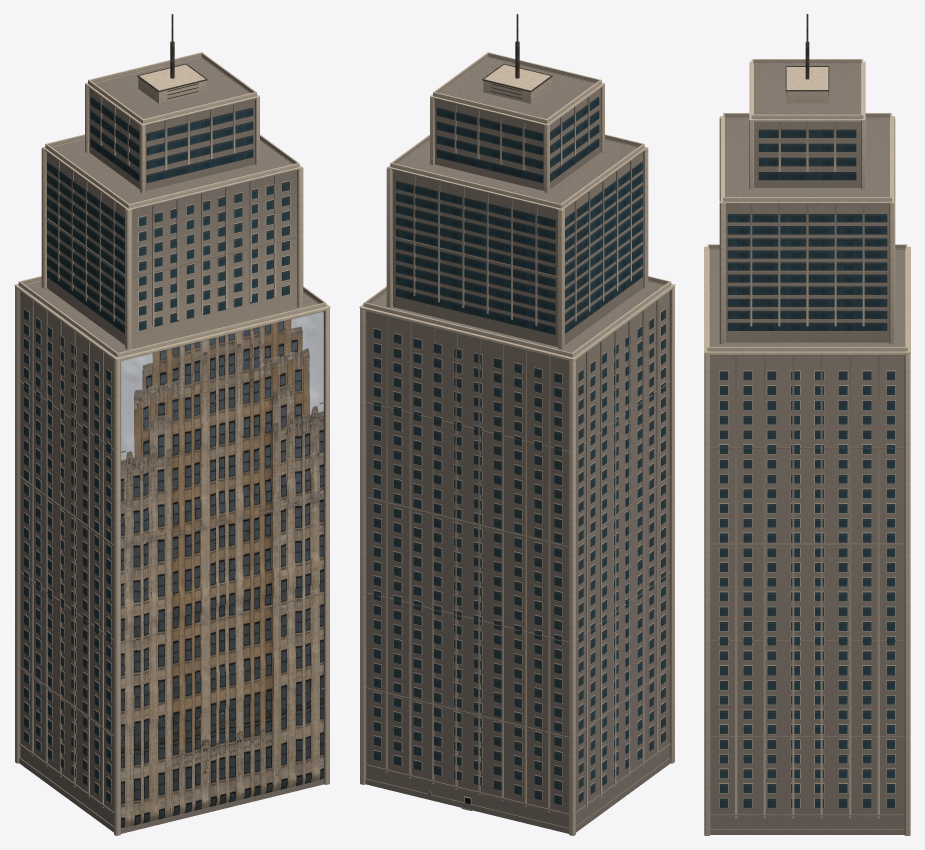
The model's file is penobscot-tower_lod0.gltf.
3 renders of one model, left to right at view 1: azimuth 30°, elevation 25°; view 2: azimuth 150°, elevation 25°; view 3: azimuth 270°, elevation 25°, orthographic.
Parts seen in each view (by area): view 1: penobscot-tower_front, penobscot-tower__v4_stone_detail, penobscot-tower_tier0, penobscot-tower_fen_07-glass-curtain-blue_1, penobscot-tower_tier1, penobscot-tower_tier2, penobscot-tower_fen_04-limestone_0, penobscot-tower__v4_metal_detail; view 2: penobscot-tower_tier0, penobscot-tower_fen_07-glass-curtain-blue_1, penobscot-tower__v4_stone_detail, penobscot-tower_tier1, penobscot-tower_fen_04-limestone_0, penobscot-tower_tier2, penobscot-tower__v4_metal_detail; view 3: penobscot-tower_tier0, penobscot-tower_fen_07-glass-curtain-blue_1, penobscot-tower__v4_stone_detail, penobscot-tower_tier1, penobscot-tower_fen_04-limestone_0, penobscot-tower_tier2, penobscot-tower__v4_metal_detail.
Part boxes in pixels (x1=…): penobscot-tower_front: x1=121, y1=311, x2=323, y2=827; penobscot-tower__v4_stone_detail: x1=14, y1=52, x2=330, y2=835; penobscot-tower_tier0: x1=20, y1=281, x2=318, y2=825; penobscot-tower_fen_07-glass-curtain-blue_1: x1=24, y1=96, x2=289, y2=803; penobscot-tower_tier1: x1=47, y1=139, x2=296, y2=346; penobscot-tower_tier2: x1=89, y1=57, x2=254, y2=190; penobscot-tower_fen_04-limestone_0: x1=24, y1=180, x2=290, y2=803; penobscot-tower__v4_metal_detail: x1=137, y1=14, x2=207, y2=99; penobscot-tower_tier0: x1=366, y1=281, x2=669, y2=827; penobscot-tower_fen_07-glass-curtain-blue_1: x1=373, y1=96, x2=665, y2=805; penobscot-tower__v4_stone_detail: x1=359, y1=52, x2=675, y2=835; penobscot-tower_tier1: x1=393, y1=139, x2=642, y2=346; penobscot-tower_fen_04-limestone_0: x1=373, y1=308, x2=665, y2=805; penobscot-tower_tier2: x1=435, y1=57, x2=600, y2=190; penobscot-tower__v4_metal_detail: x1=482, y1=14, x2=552, y2=99; penobscot-tower_tier0: x1=709, y1=249, x2=905, y2=828; penobscot-tower_fen_07-glass-curtain-blue_1: x1=719, y1=129, x2=895, y2=807; penobscot-tower__v4_stone_detail: x1=704, y1=59, x2=910, y2=835; penobscot-tower_tier1: x1=725, y1=118, x2=889, y2=342; penobscot-tower_fen_04-limestone_0: x1=719, y1=370, x2=895, y2=807; penobscot-tower_tier2: x1=754, y1=64, x2=860, y2=187; penobscot-tower__v4_metal_detail: x1=785, y1=14, x2=829, y2=95.
Size of the model in its own units: 56.6 by 191 by 46.6.
